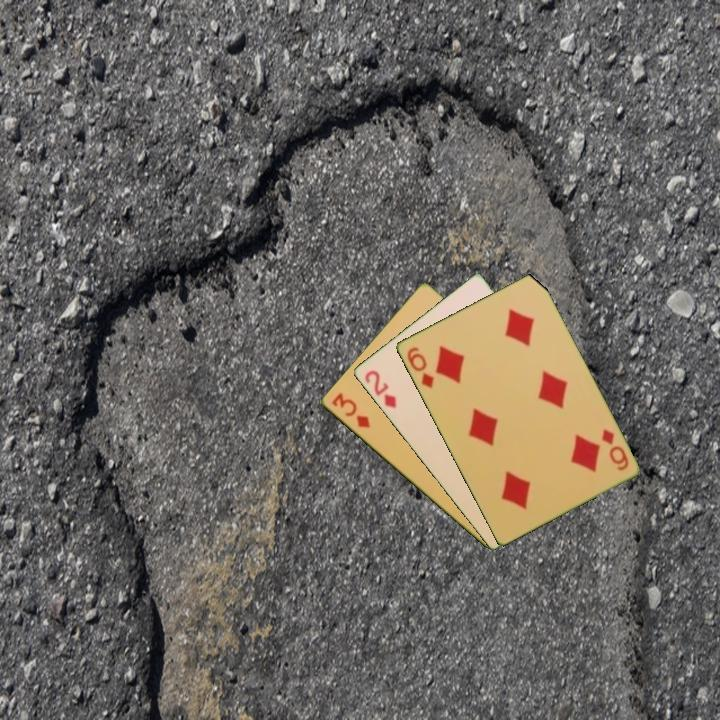2d: (361, 367, 399, 411)
3d: (328, 389, 373, 431)
6d: (597, 425, 631, 474), (403, 343, 436, 391)
